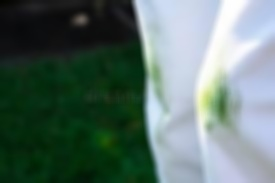earth: (199, 76, 234, 125), (147, 58, 164, 99)
